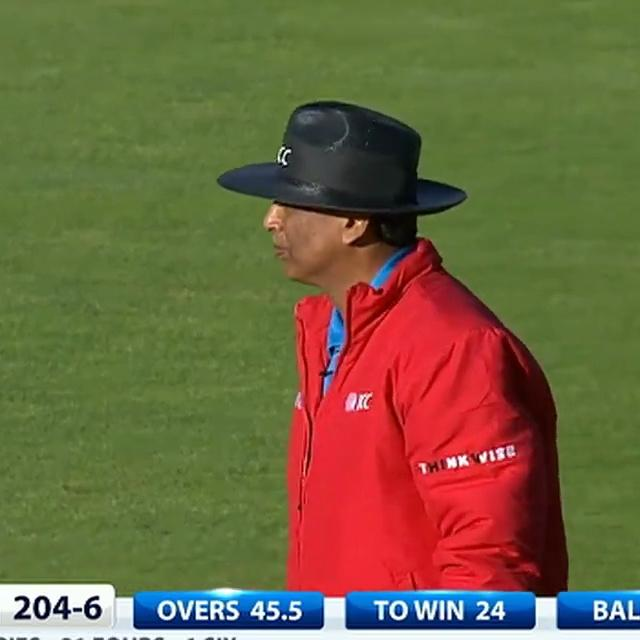umpire: (183, 59, 622, 593)
